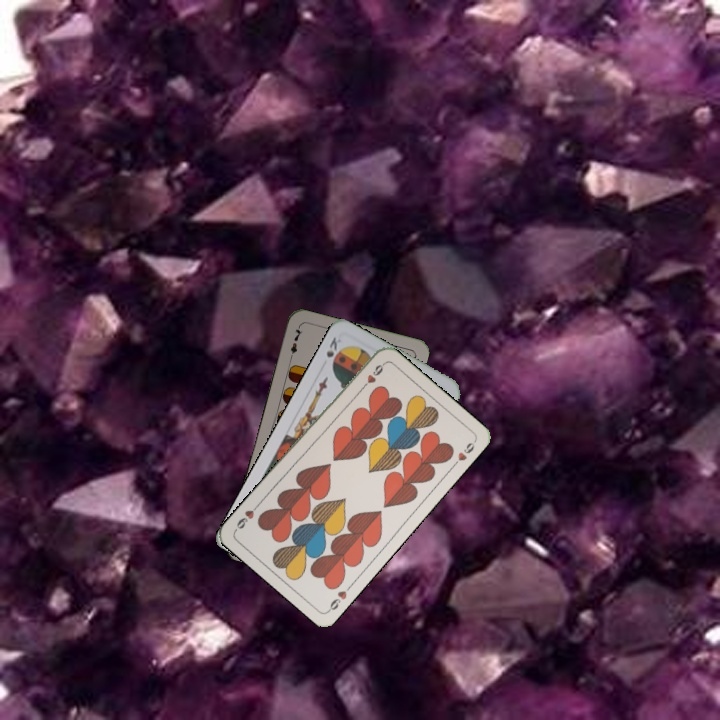E7: (285, 323, 305, 363)
H9: (324, 580, 355, 614), (357, 359, 387, 393)
SK: (322, 333, 344, 371)
